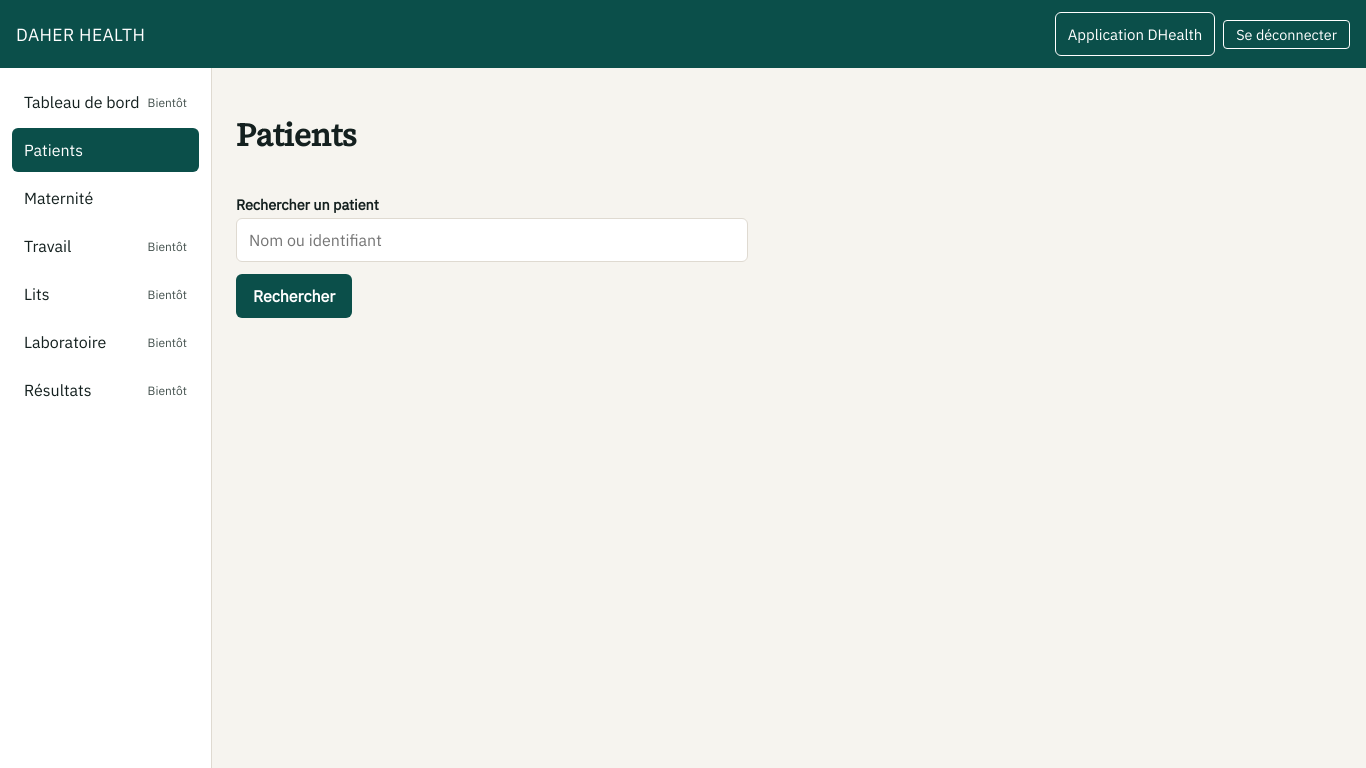
Test: accessibility › the empty maternity board has no detectable axe violations
Click the button "Maternité": (105, 198) x1=12 y1=176 x2=199 y2=220
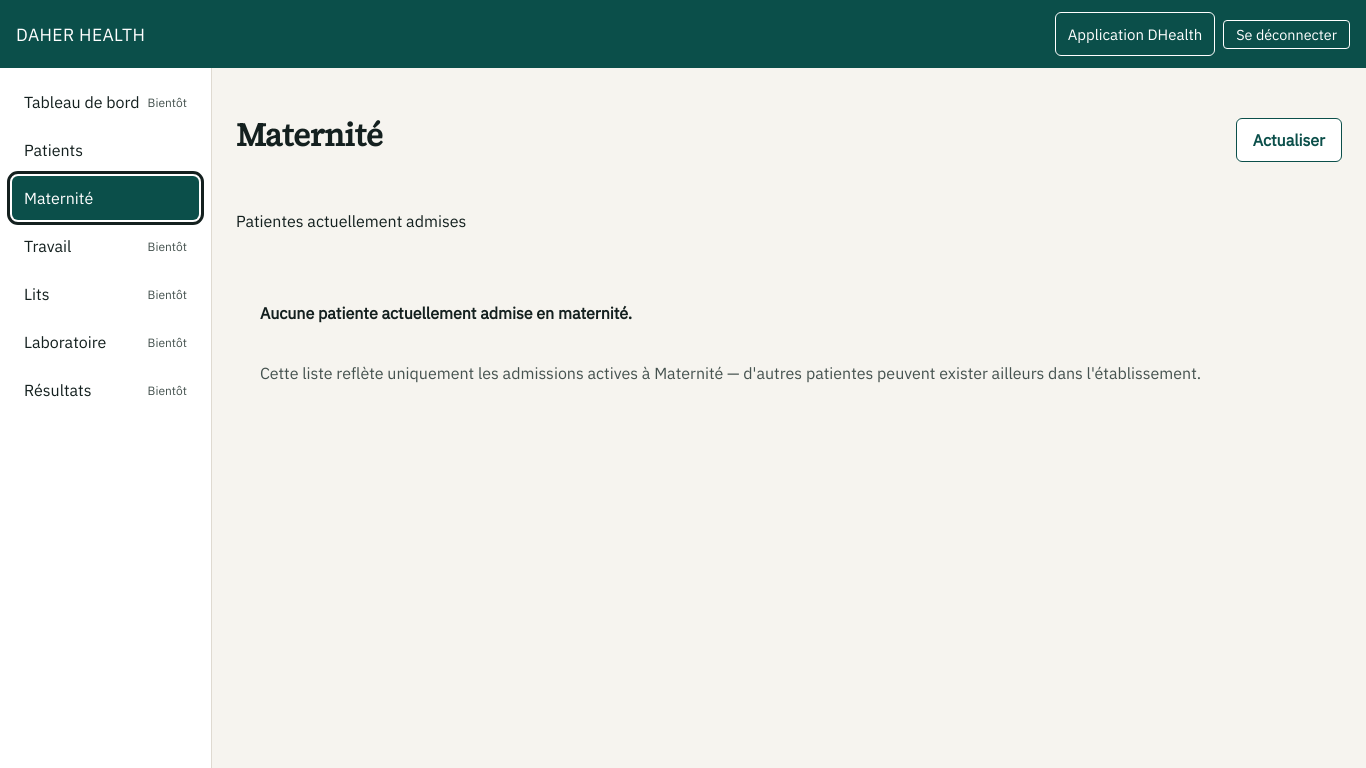
Expected: the text "Aucune patiente actuellement admise en maternité." is shown, x1=260 y1=303 x2=632 y2=323
